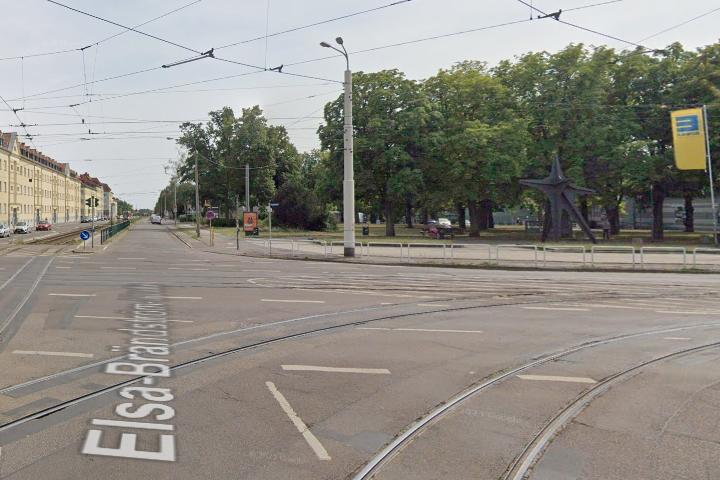traffic_sign: (79, 230, 90, 241)
vehicle: (11, 221, 31, 234), (34, 219, 54, 232)
